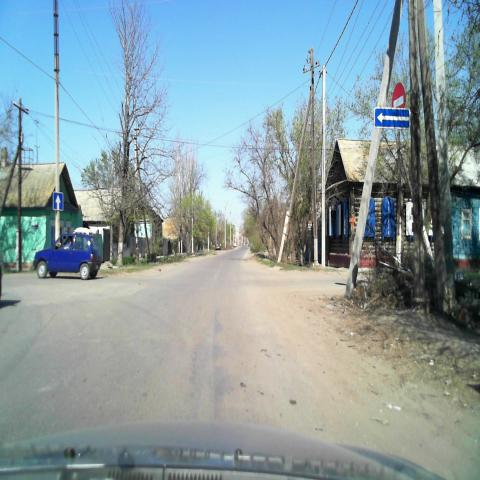5_7_2: (374, 106, 410, 130)
